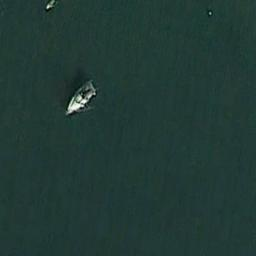boat: (64, 75, 96, 116)
